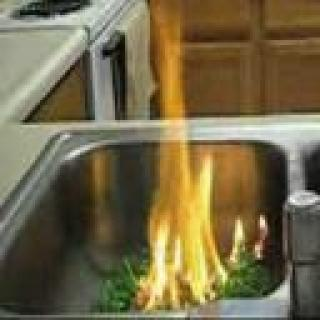fire: (142, 0, 226, 300), (224, 213, 276, 276)
